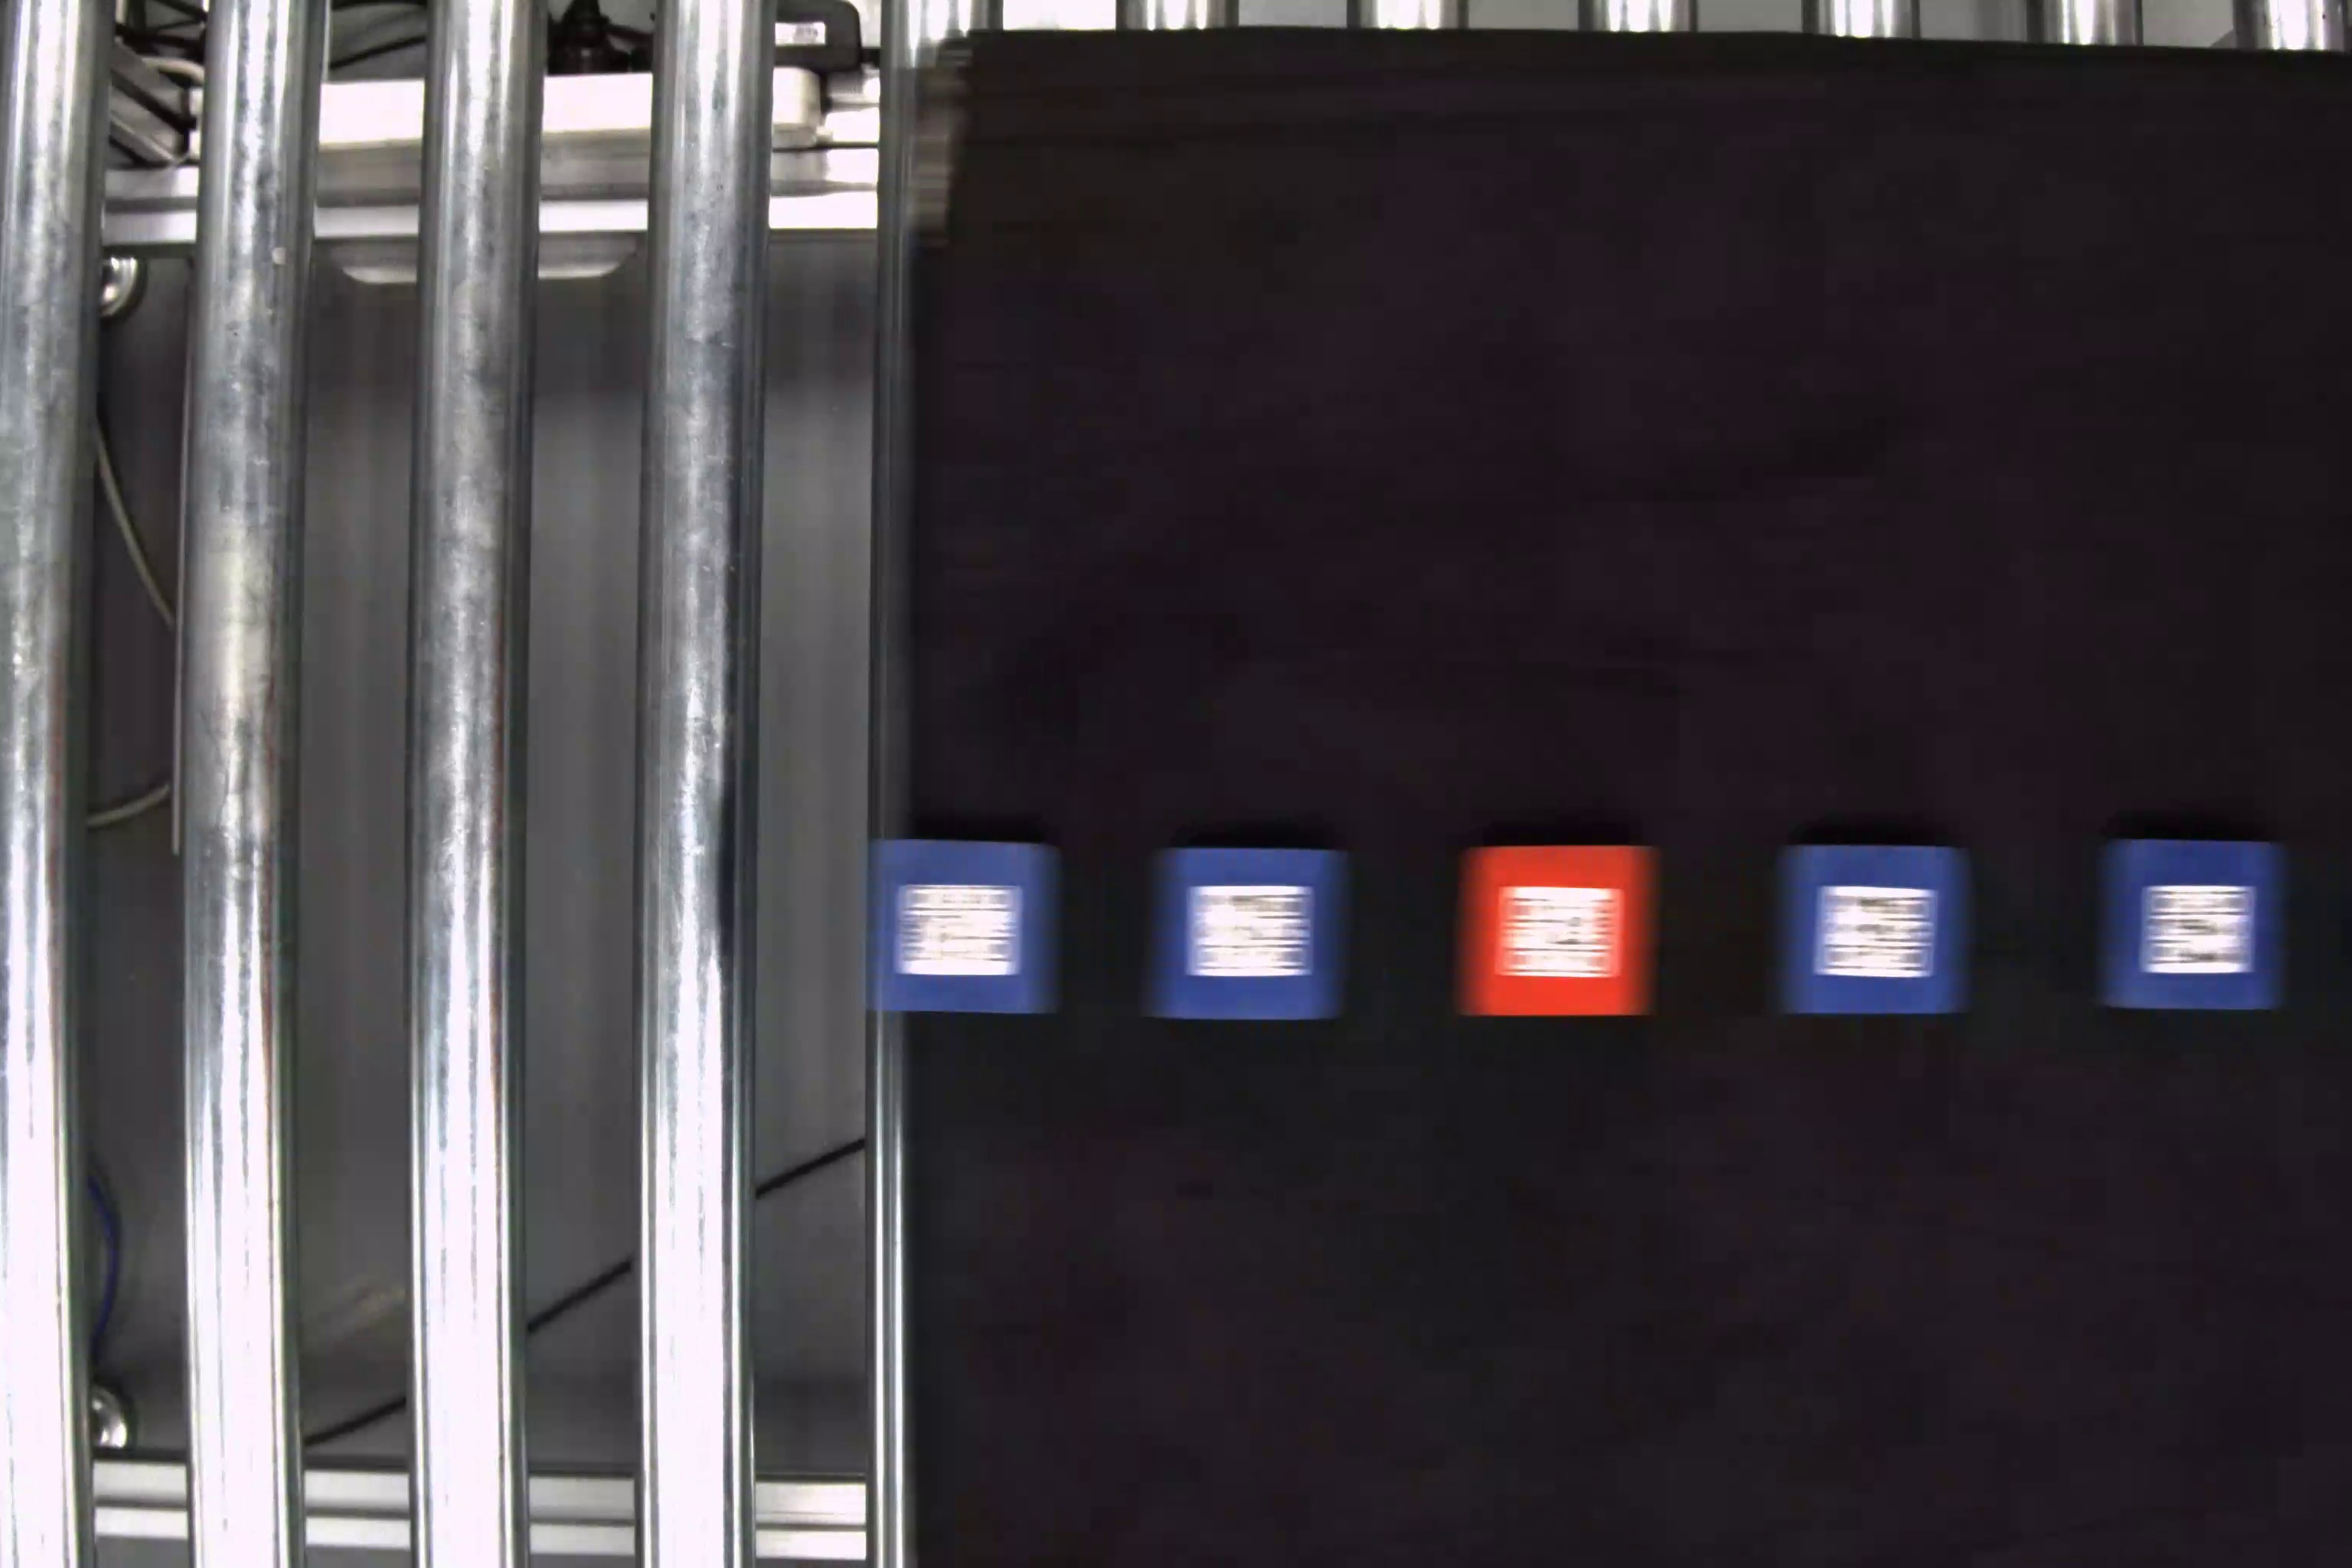wood: (1456, 836, 1661, 1025), (1148, 845, 1351, 1027), (866, 836, 1067, 1017), (1773, 845, 1977, 1013), (2098, 836, 2291, 1015)
